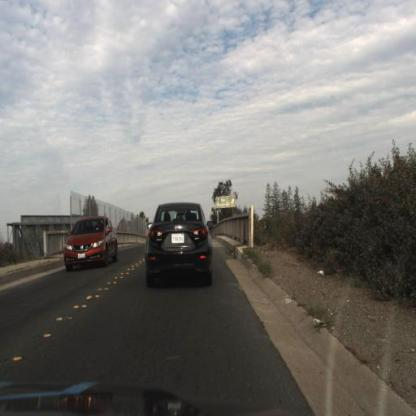car: (138, 198, 216, 294), (58, 211, 124, 281)
